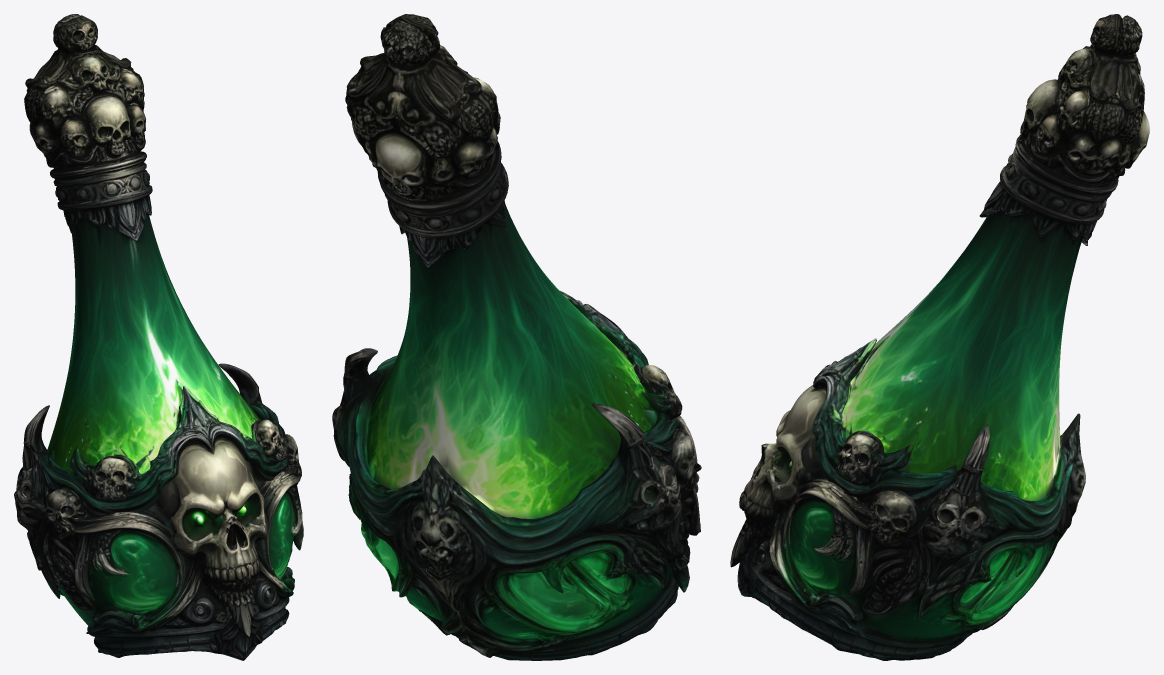
The model's file is esya_iksir.glb.
3 views of the same model, side by side, from view 1: azimuth 30°, elevation 25°; view 2: azimuth 150°, elevation 25°; view 3: azimuth 270°, elevation 25° (orthographic). The views are drawn at different scales.
Visible parts, largest first — view 1: material; view 2: material; view 3: material.
Part boxes in pixels (x1,y1,x2,y2): material: [14, 14, 303, 660]; material: [332, 14, 701, 660]; material: [730, 14, 1149, 660].
Bounding box in the file's own units: 0.5319 × 1.05 × 0.6508.
Materials: 1 (1 with a texture image).
